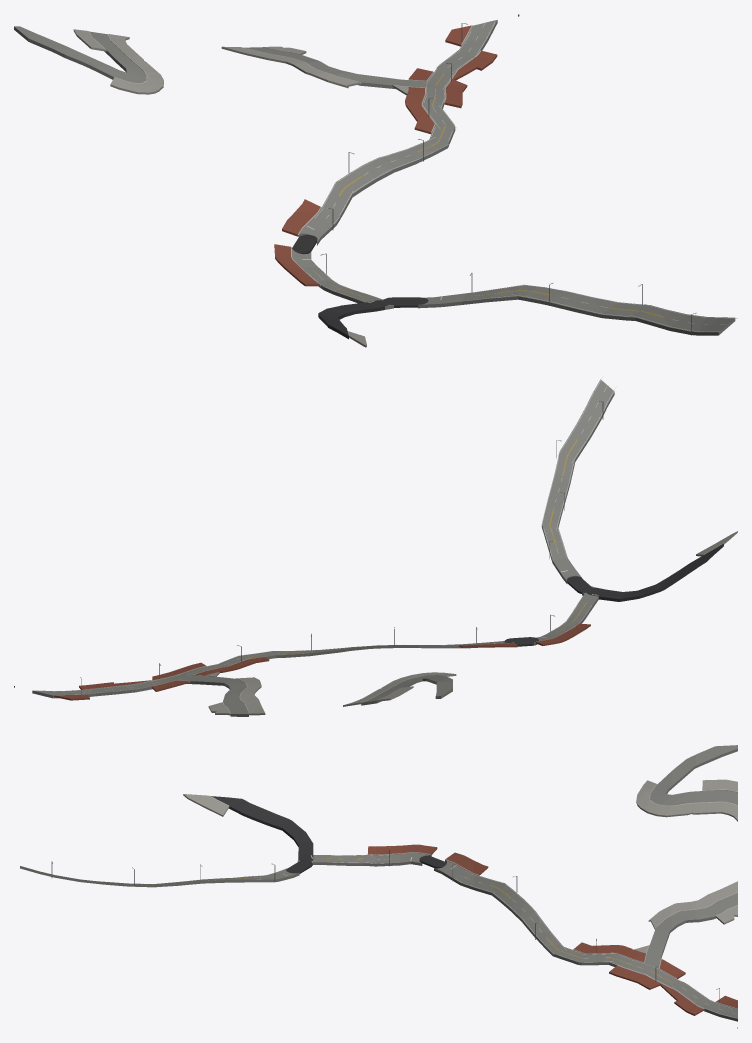
File: 17-109432-59456.0b8ffd77.glb
The picture shows the model from 3 angles, top to bottom: view 1: azimuth 30°, elevation 25°; view 2: azimuth 150°, elevation 25°; view 3: azimuth 270°, elevation 25°; orthographic projection. The views are drawn at different scales.
Bounding box in the file's own units: 187 × 42.79 × 294.
